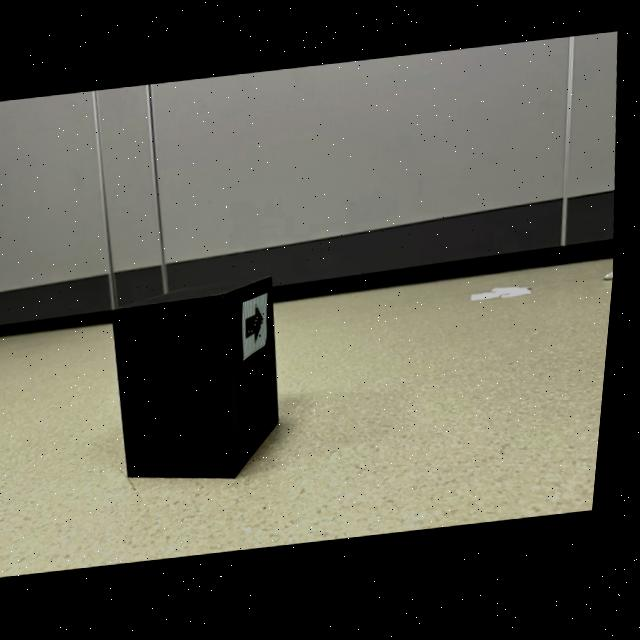RIGHT: (253, 306, 270, 346)
